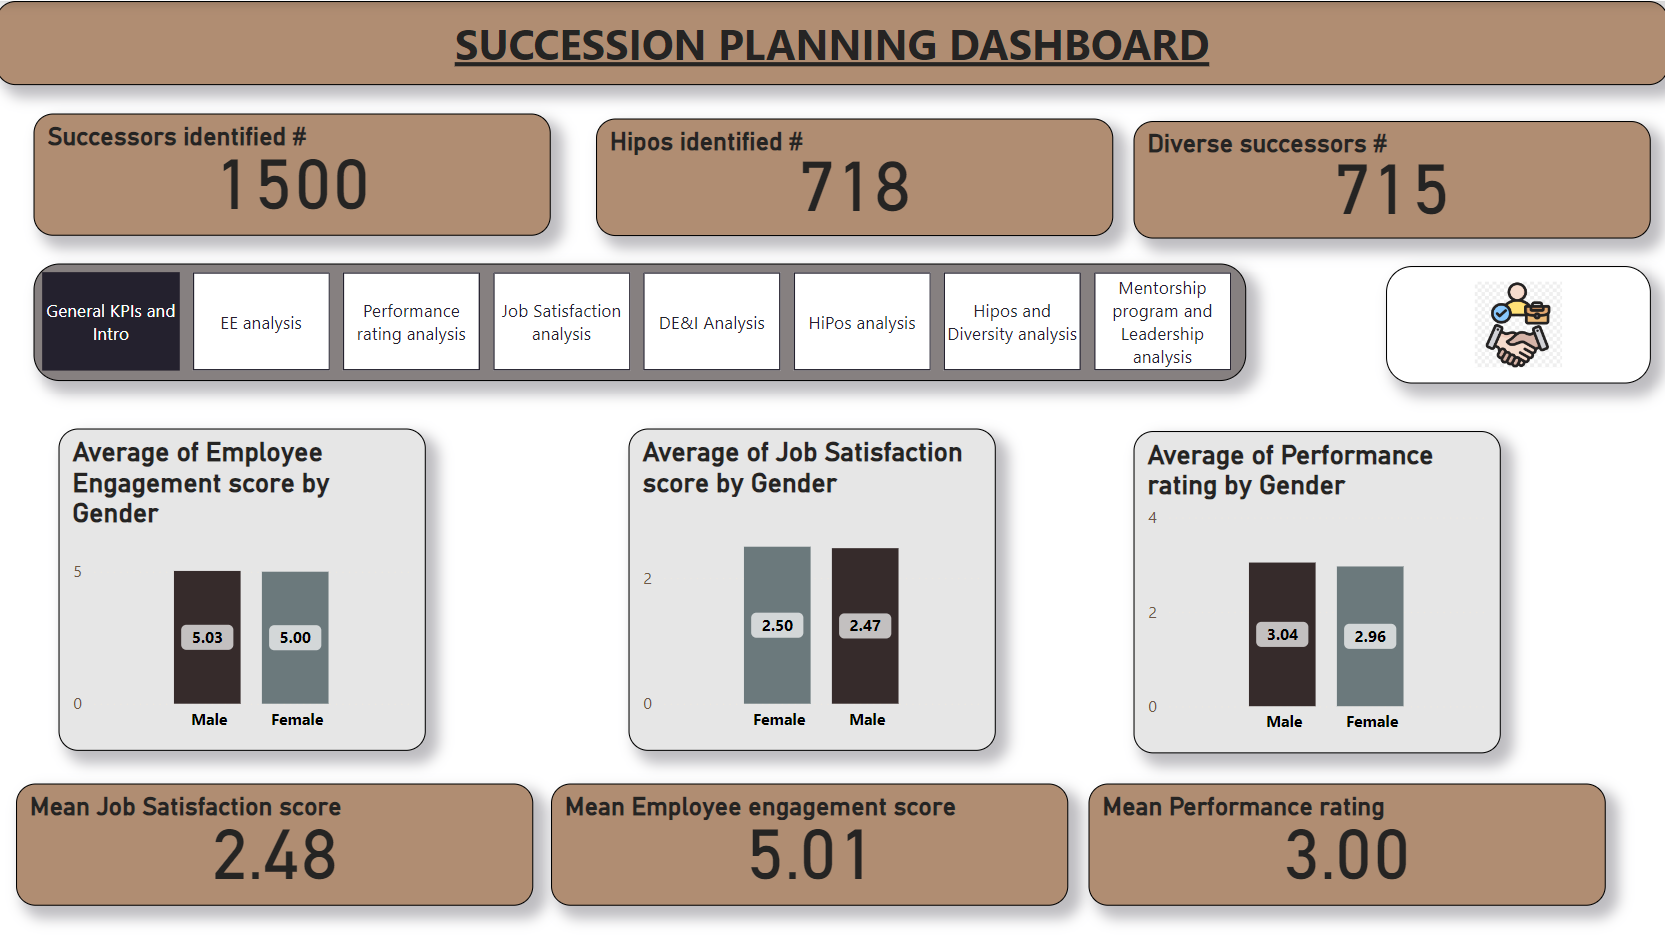

What the dashboard file says about the page in this screenshot:
{"tool":"powerbi","page":{"name":"General KPIs and Intro","canvas":[1280,720],"ordinal":0},"visuals":[{"type":"textbox","box":[0,0,1280.4,64.4],"z":0},{"type":"card","title":"Successors identified #","fields":{"Values":["CountNonNull(SP data.Employee_ID)"]},"box":[28.7,86.1,396.2,93.8],"z":1000},{"type":"card","title":"Hipos identified #","fields":{"Values":["CountNonNull(SP data.Employee_ID)"]},"box":[459.3,90,396.2,90],"z":2000},{"type":"pageNavigator","box":[28.7,201,928.2,90],"z":3000},{"type":"image","box":[1064.1,202.9,202.9,90],"z":4000},{"type":"card","title":"Mean Job Satisfaction score","fields":{"Values":["Avg(SP data.Job_Satisfaction)"]},"box":[15.3,599,396.2,93.8],"z":5000},{"type":"card","title":"Mean Employee engagement score","fields":{"Values":["Avg(SP data.Engagement_Score)"]},"box":[424.9,599,396.2,93.8],"z":6000},{"type":"card","title":"Mean Performance rating","fields":{"Values":["Avg(SP data.Performance_Rating)"]},"box":[836.4,599,396.2,93.8],"z":7000},{"type":"lineStackedColumnComboChart","title":"Average of Employee Engagement score by Gender","fields":{"Category":["SP data.Gender"],"Y":["Avg(SP data.Engagement_Score)"],"Series":["SP data.Gender"]},"box":[47.8,327.3,281.3,246.9],"z":8000},{"type":"lineStackedColumnComboChart","title":"Average of Job Satisfaction score by Gender","fields":{"Category":["SP data.Gender"],"Series":["SP data.Gender"],"Y":["Avg(SP data.Job_Satisfaction)"]},"box":[484.2,327.3,281.3,246.9],"z":9000},{"type":"lineStackedColumnComboChart","title":"Average of Performance rating by Gender","fields":{"Category":["SP data.Gender"],"Series":["SP data.Gender"],"Y":["Avg(SP data.Performance_Rating)"]},"box":[870.8,329.2,281.3,246.9],"z":10000},{"type":"card","title":"Diverse successors #","fields":{"Values":["CountNonNull(SP data.Employee_ID)"]},"box":[870.8,91.9,396.2,90],"z":11000}]}

Visuals, with their boxes in screenshot pixels (x1, y1, x2, y2), scaled from the page's 1280x720 canvas onto the 1665x937 screenshot:
textbox: (left=0, top=0, right=1664, bottom=84)
"Successors identified #" card: (left=37, top=112, right=553, bottom=234)
"Hipos identified #" card: (left=597, top=117, right=1113, bottom=234)
pageNavigator: (left=37, top=262, right=1245, bottom=379)
image: (left=1384, top=264, right=1648, bottom=381)
"Mean Job Satisfaction score" card: (left=20, top=780, right=535, bottom=902)
"Mean Employee engagement score" card: (left=553, top=780, right=1068, bottom=902)
"Mean Performance rating" card: (left=1088, top=780, right=1603, bottom=902)
"Average of Employee Engagement score by Gender" lineStackedColumnComboChart: (left=62, top=426, right=428, bottom=747)
"Average of Job Satisfaction score by Gender" lineStackedColumnComboChart: (left=630, top=426, right=996, bottom=747)
"Average of Performance rating by Gender" lineStackedColumnComboChart: (left=1133, top=428, right=1499, bottom=750)
"Diverse successors #" card: (left=1133, top=120, right=1648, bottom=237)
